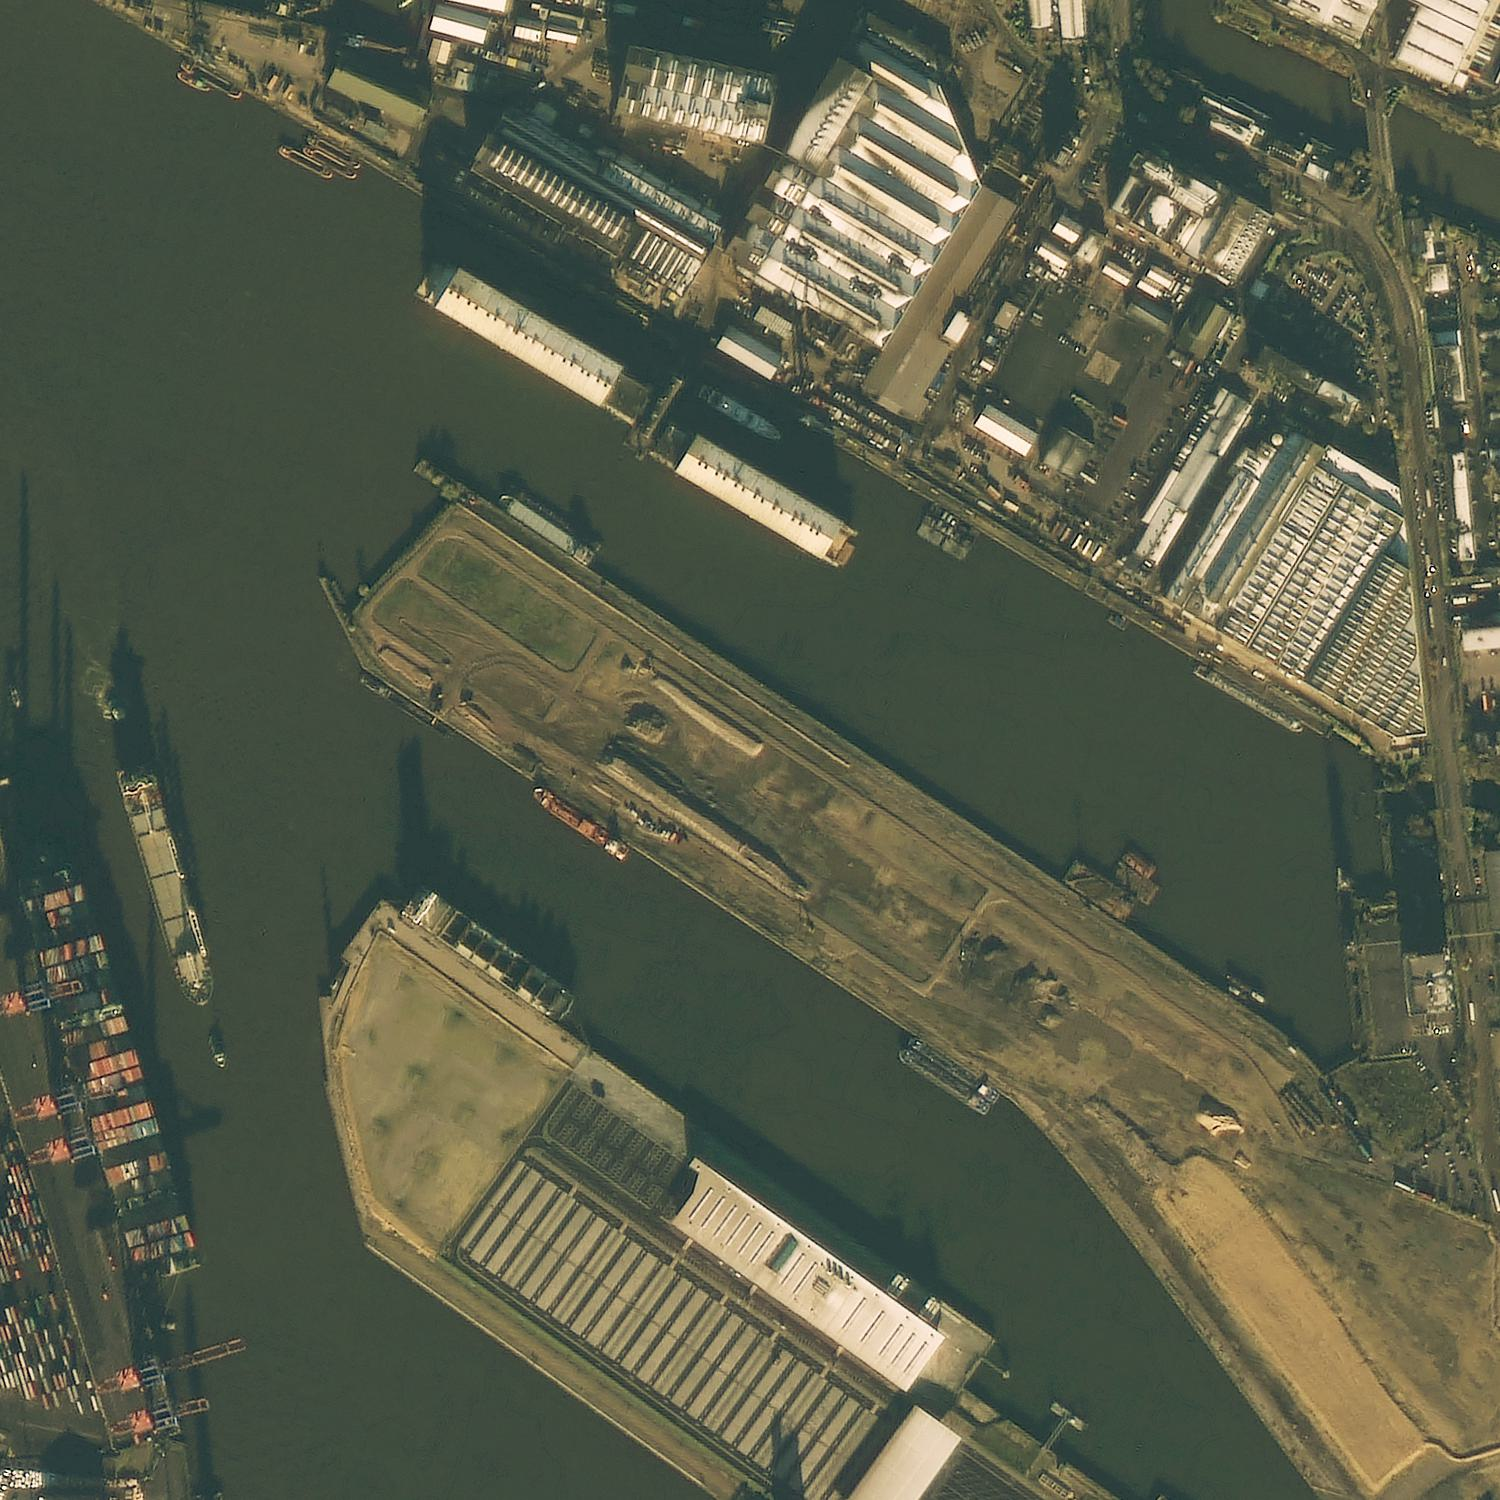A11: (383, 244, 487, 353), (246, 306, 349, 412), (521, 192, 614, 302)
